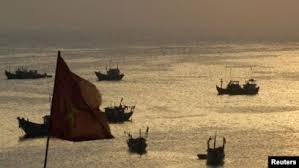Ship: (217, 80, 260, 96), (6, 69, 53, 80), (96, 68, 125, 82)
